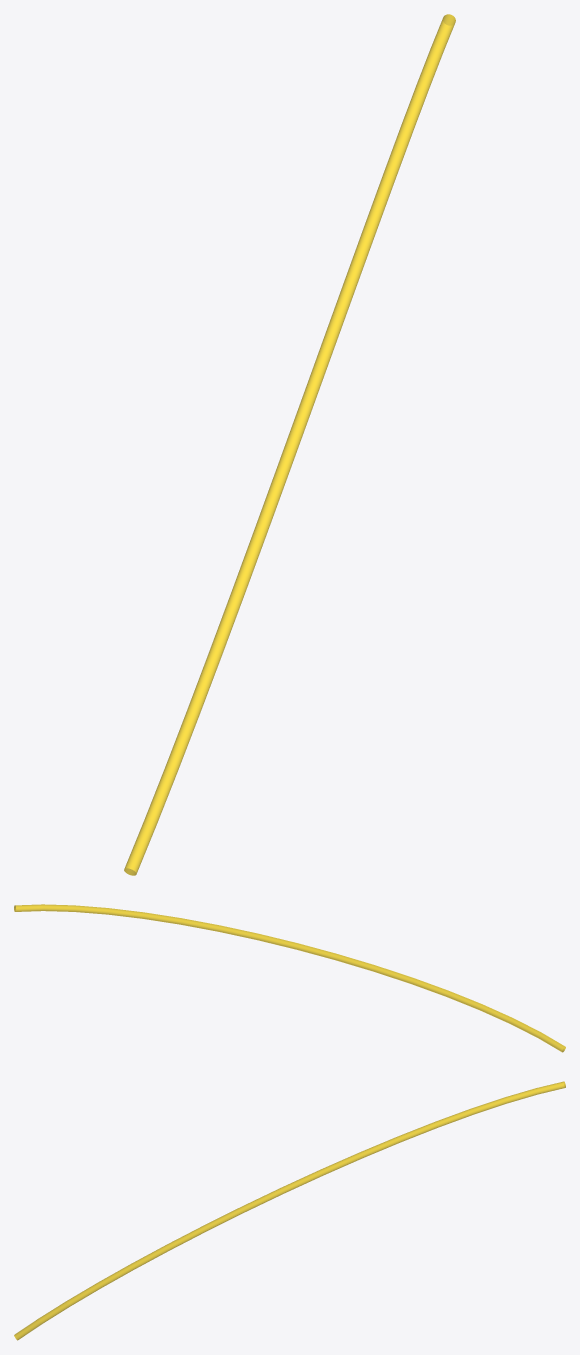
File: Event_75125125_track_6.fbx
3 renders of one model, top to bottom at view 1: azimuth 30°, elevation 25°; view 2: azimuth 150°, elevation 25°; view 3: azimuth 330°, elevation 25°, orthographic. The views are drawn at different scales.
Visible parts, largest first — view 1: Model; view 2: Model; view 3: Model.
Part boxes in pixels (bbox=[...]): Model: bbox=[124, 14, 455, 875]; Model: bbox=[14, 904, 565, 1052]; Model: bbox=[14, 1081, 565, 1340].
Size of the model in its own units: 2.48 by 1.34 by 2.36.
